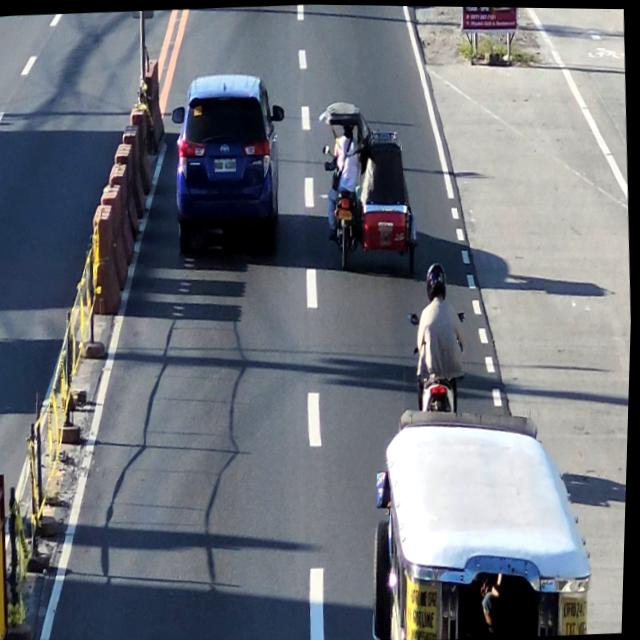Car: (171, 67, 287, 265)
Jeep: (373, 409, 593, 640)
License-Plate: (214, 156, 237, 174), (337, 208, 355, 219)
Motorcycle: (412, 263, 465, 408)
Tricycle: (320, 99, 426, 274)
